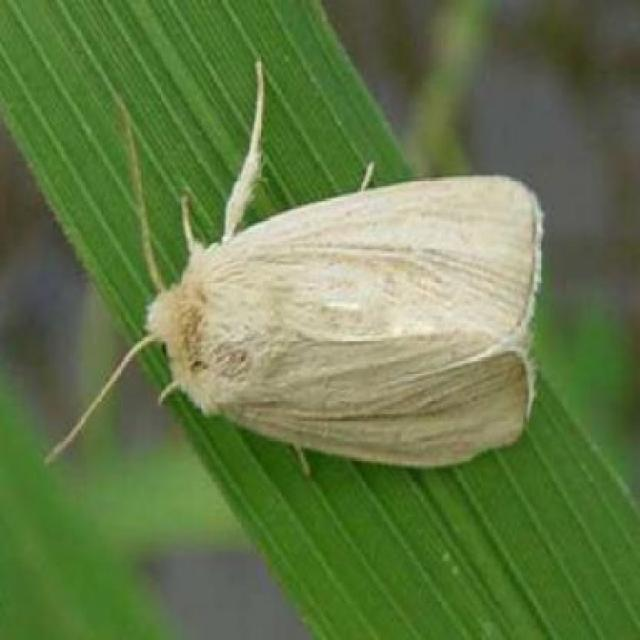stem-borer: (120, 165, 549, 484)
